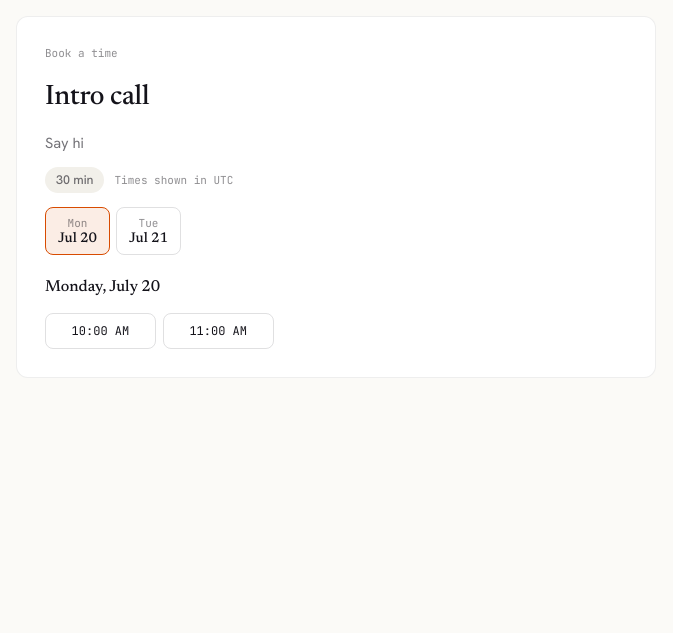
Test case: <BookingPage> › keeps the confirm button disabled until name and a plausible email exist
Expected: the heading "Intro call" is shown, [45,82,149,110]
Click the button with class "slot-btn" showing "10:00 AM" at x=100, y=331, box [45,313,156,349]
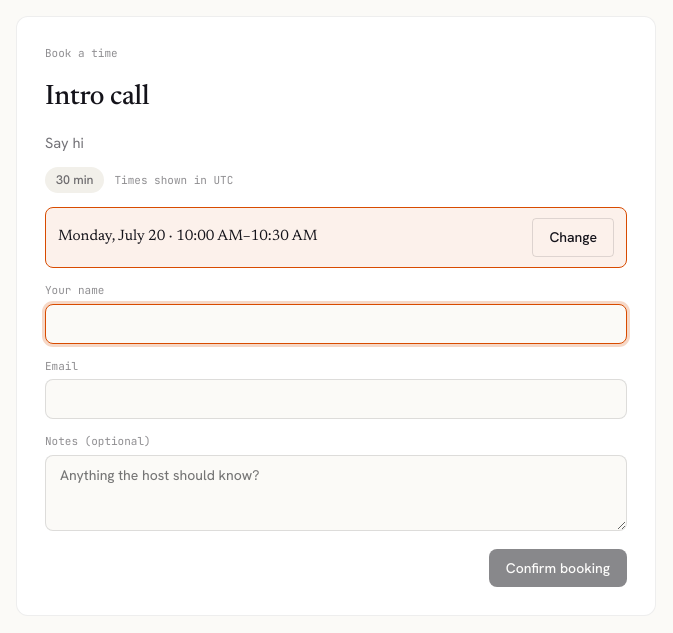
Expected: the button "Confirm booking" is disabled, [489,548,627,587]
Type "Ada" into the field labelled "Your name" at x=336, y=324, box [45,304,627,344]
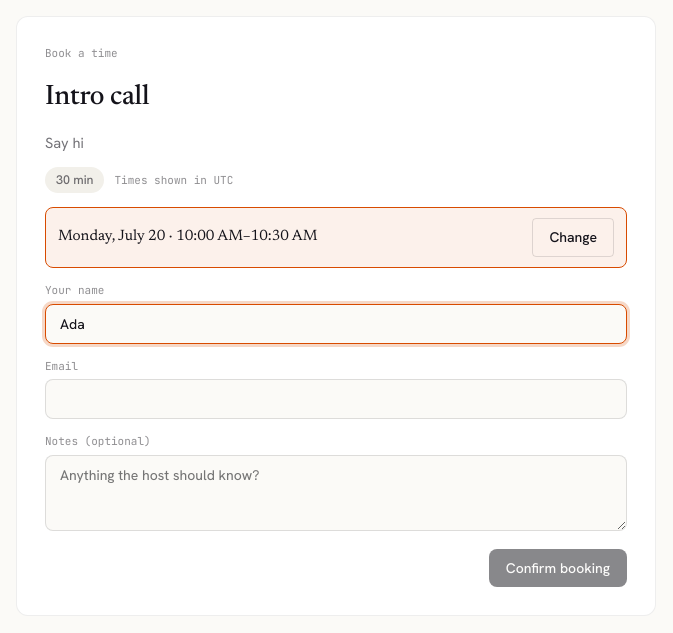
Expected: the button "Confirm booking" is disabled, [489,548,627,587]
Type "not-an-email" into the field labelled "Email" at x=336, y=399, box [45,379,627,419]
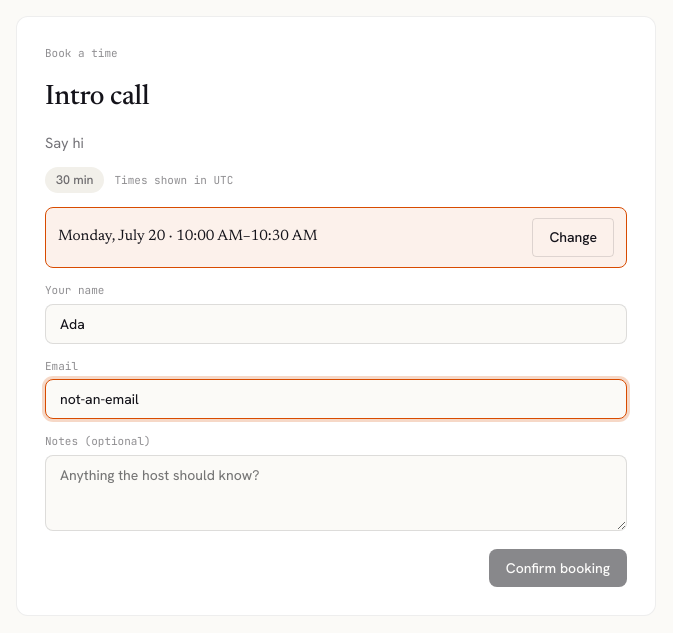
Expected: the button "Confirm booking" is disabled, [489,548,627,587]
Replace the text in the field labelled "Email" with "ada@example.com" at x=336, y=399, box [45,379,627,419]
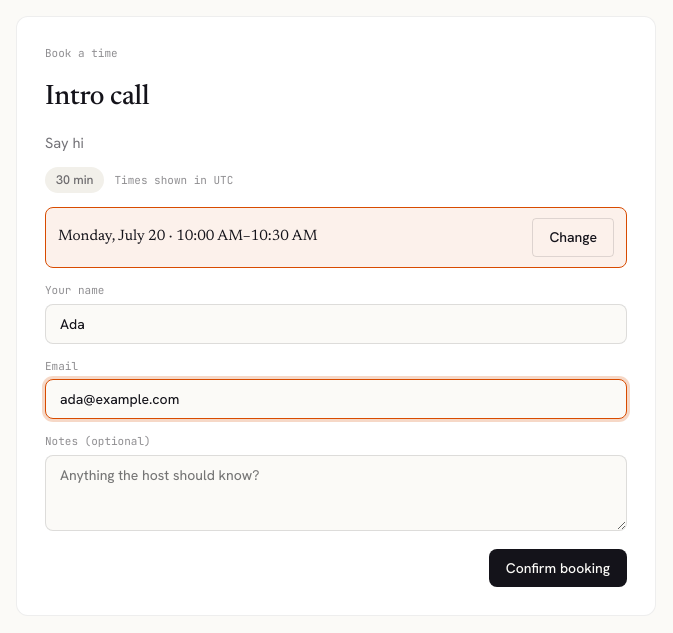
Expected: the button "Confirm booking" is enabled, [489,548,627,587]
